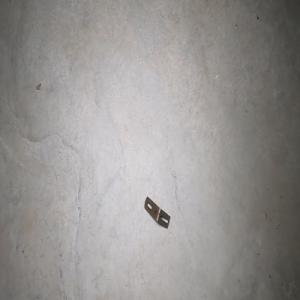MetalPart: (143, 195, 171, 229)
